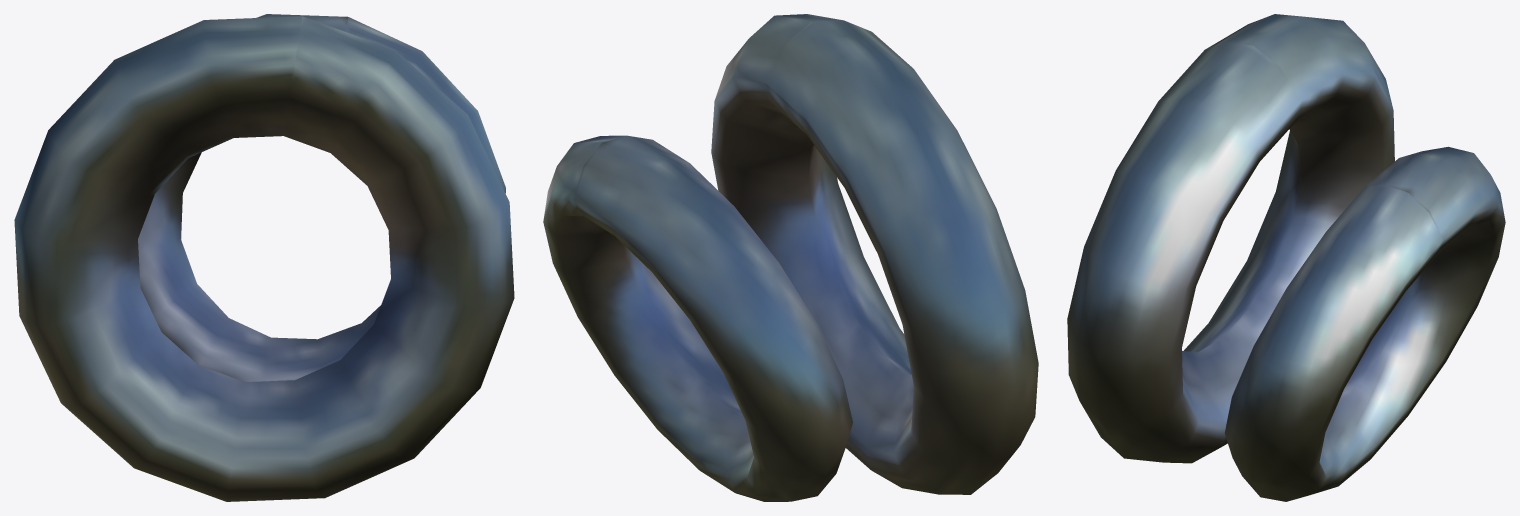
File: sm_dwarf_accessories_03.gltf
3 views of the same model, side by side, from view 1: azimuth 30°, elevation 25°; view 2: azimuth 150°, elevation 25°; view 3: azimuth 270°, elevation 25° (orthographic). The views are drawn at different scales.
Parts seen in each view (by area): view 1: sm_dwarf_accessories_03; view 2: sm_dwarf_accessories_03; view 3: sm_dwarf_accessories_03.
Part boxes in pixels (<box>): sm_dwarf_accessories_03: <box>14,14,514,501</box>; sm_dwarf_accessories_03: <box>543,14,1038,501</box>; sm_dwarf_accessories_03: <box>1067,14,1505,501</box>.
Bounding box in the file's own units: 2.74 × 2.53 × 2.32.
Materials: 1 (1 with a texture image).
